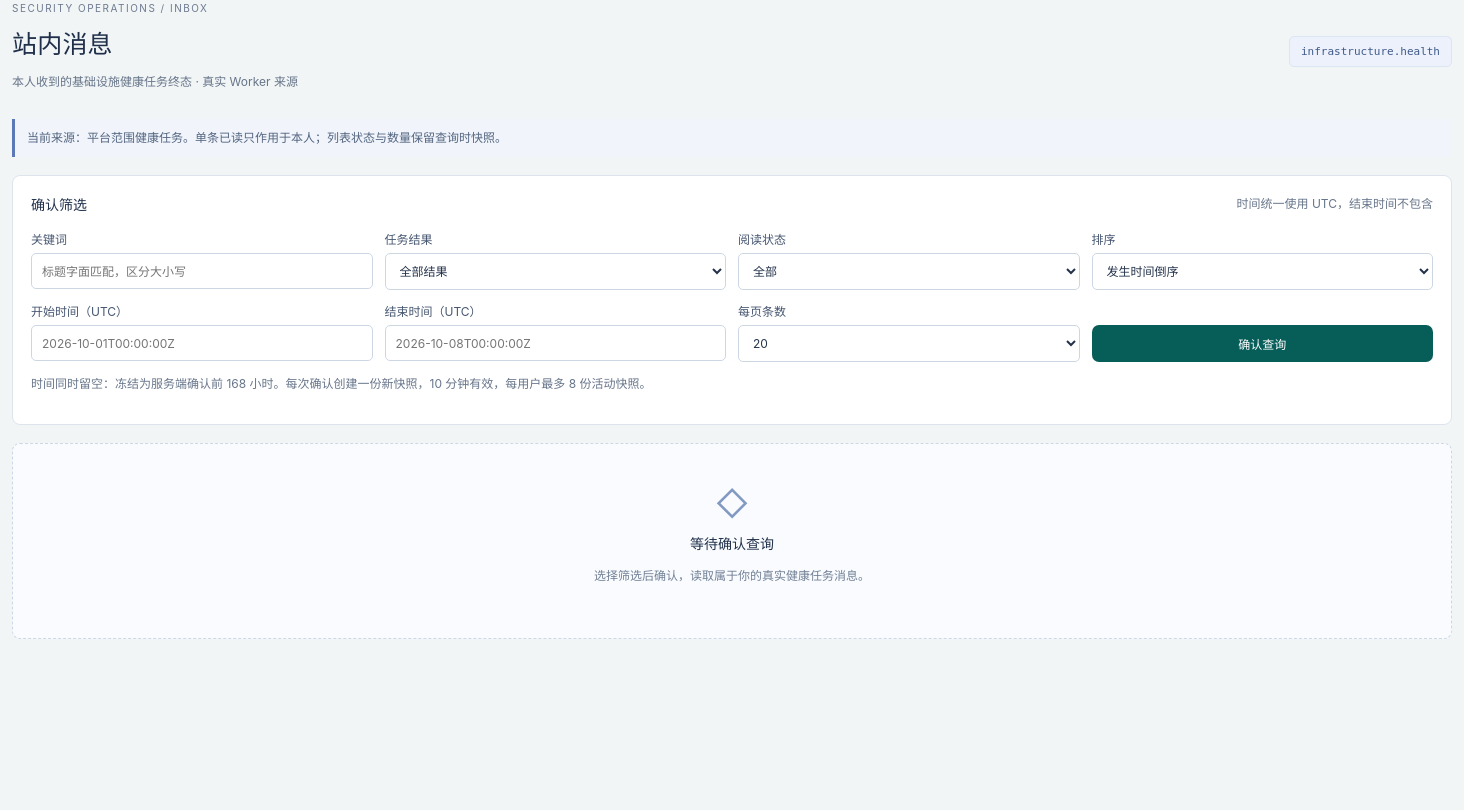
Scenario: clears result on GET 410
Click the button "确认查询" at (1262, 344), box [1092,325,1433,362]
(page scrolled)
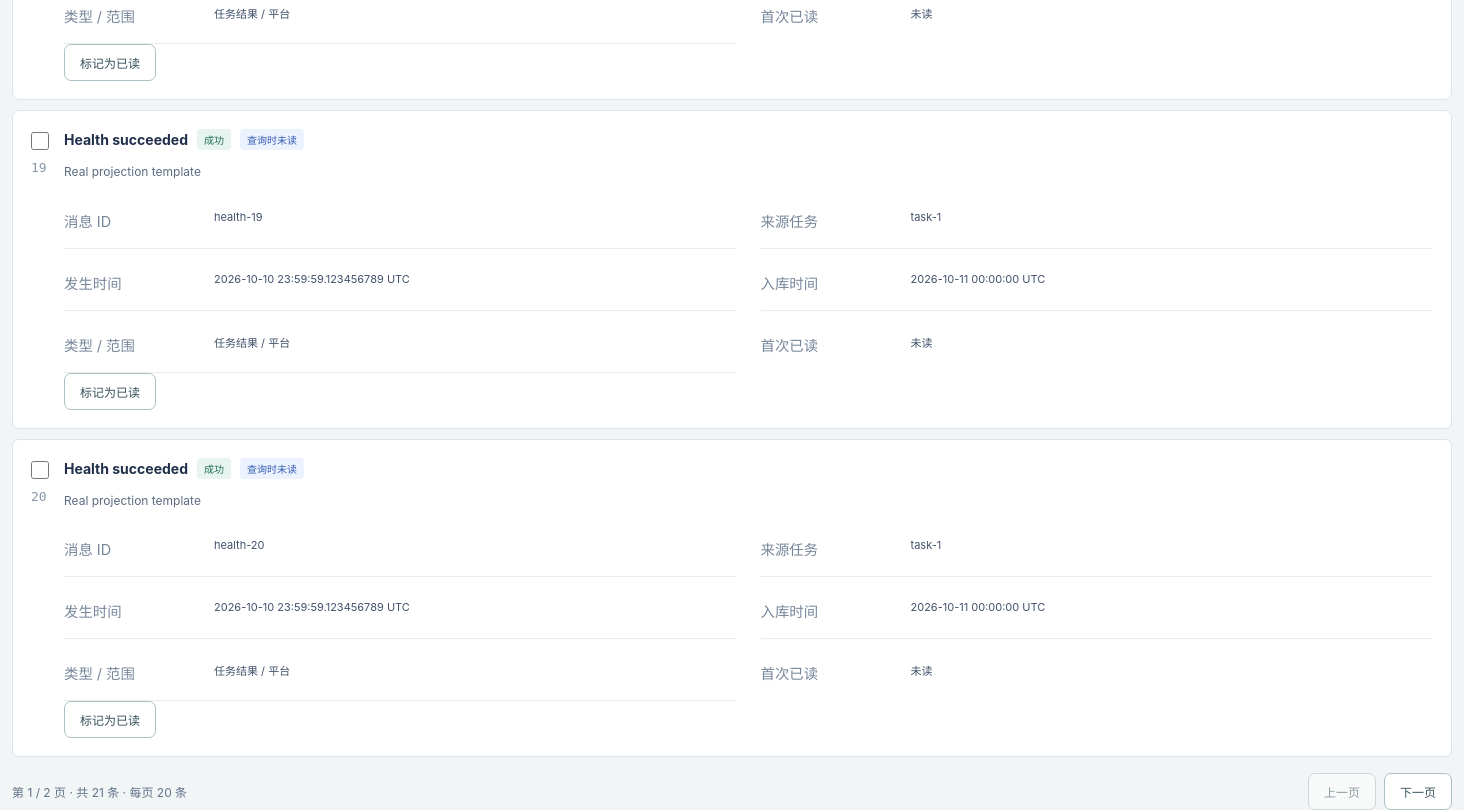
Click the button "下一页" at (1418, 792), box [1384,773,1452,809]
(page scrolled)
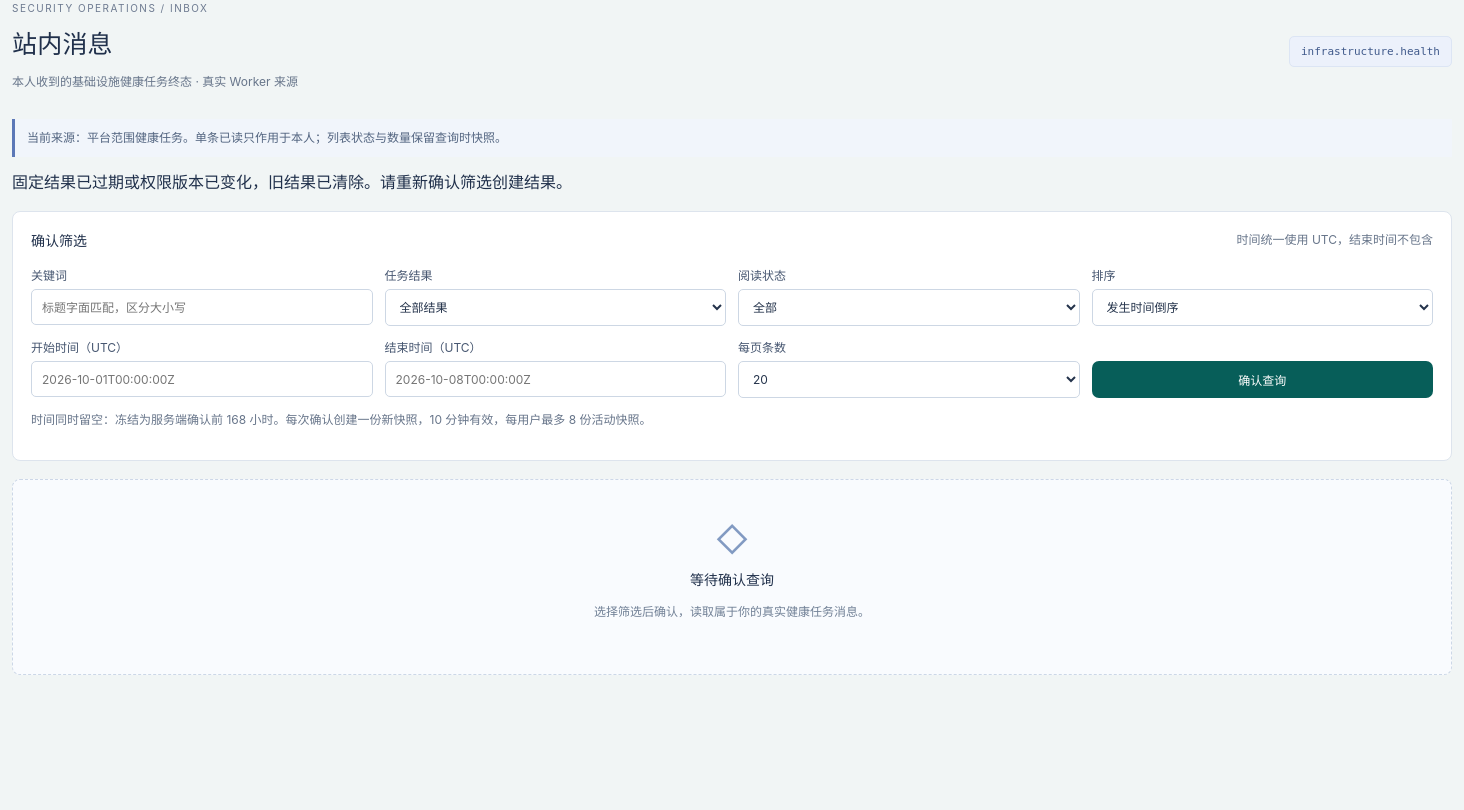
Now the message shows "旧结果已清除", box [12,172,572,192]
